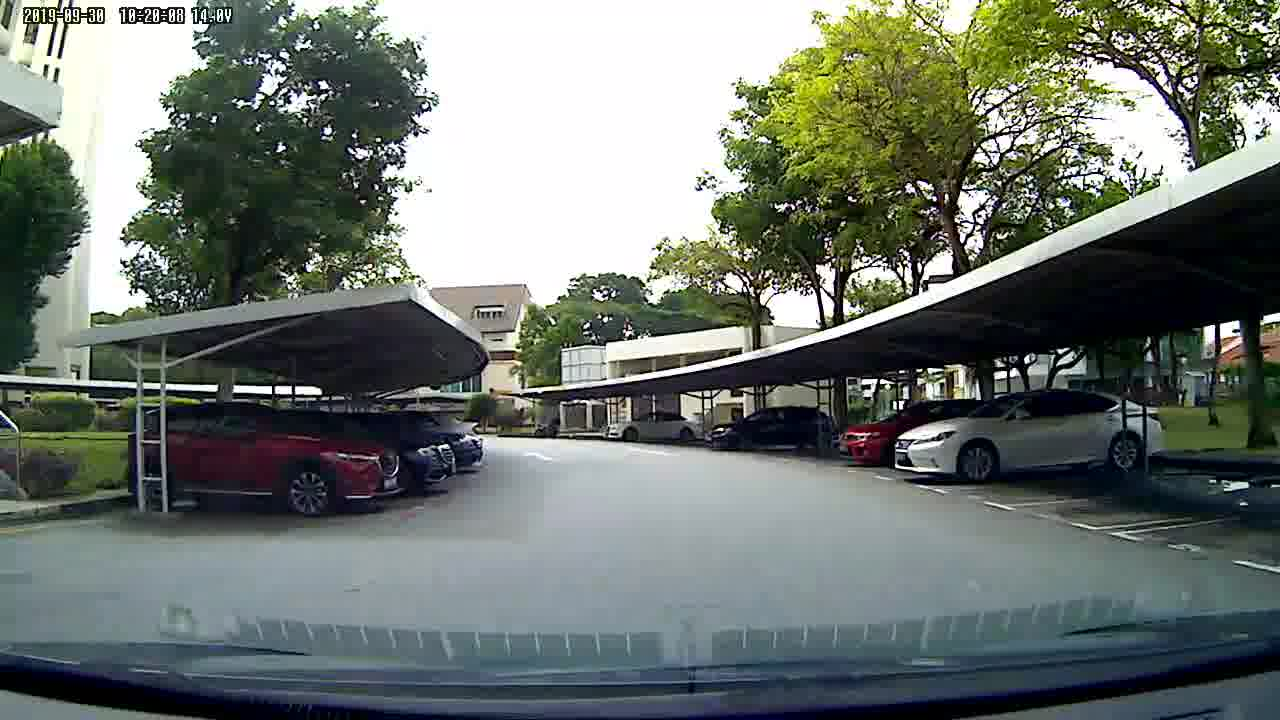car: (124, 394, 489, 531), (891, 387, 1169, 485), (704, 404, 837, 457), (600, 408, 704, 442)
